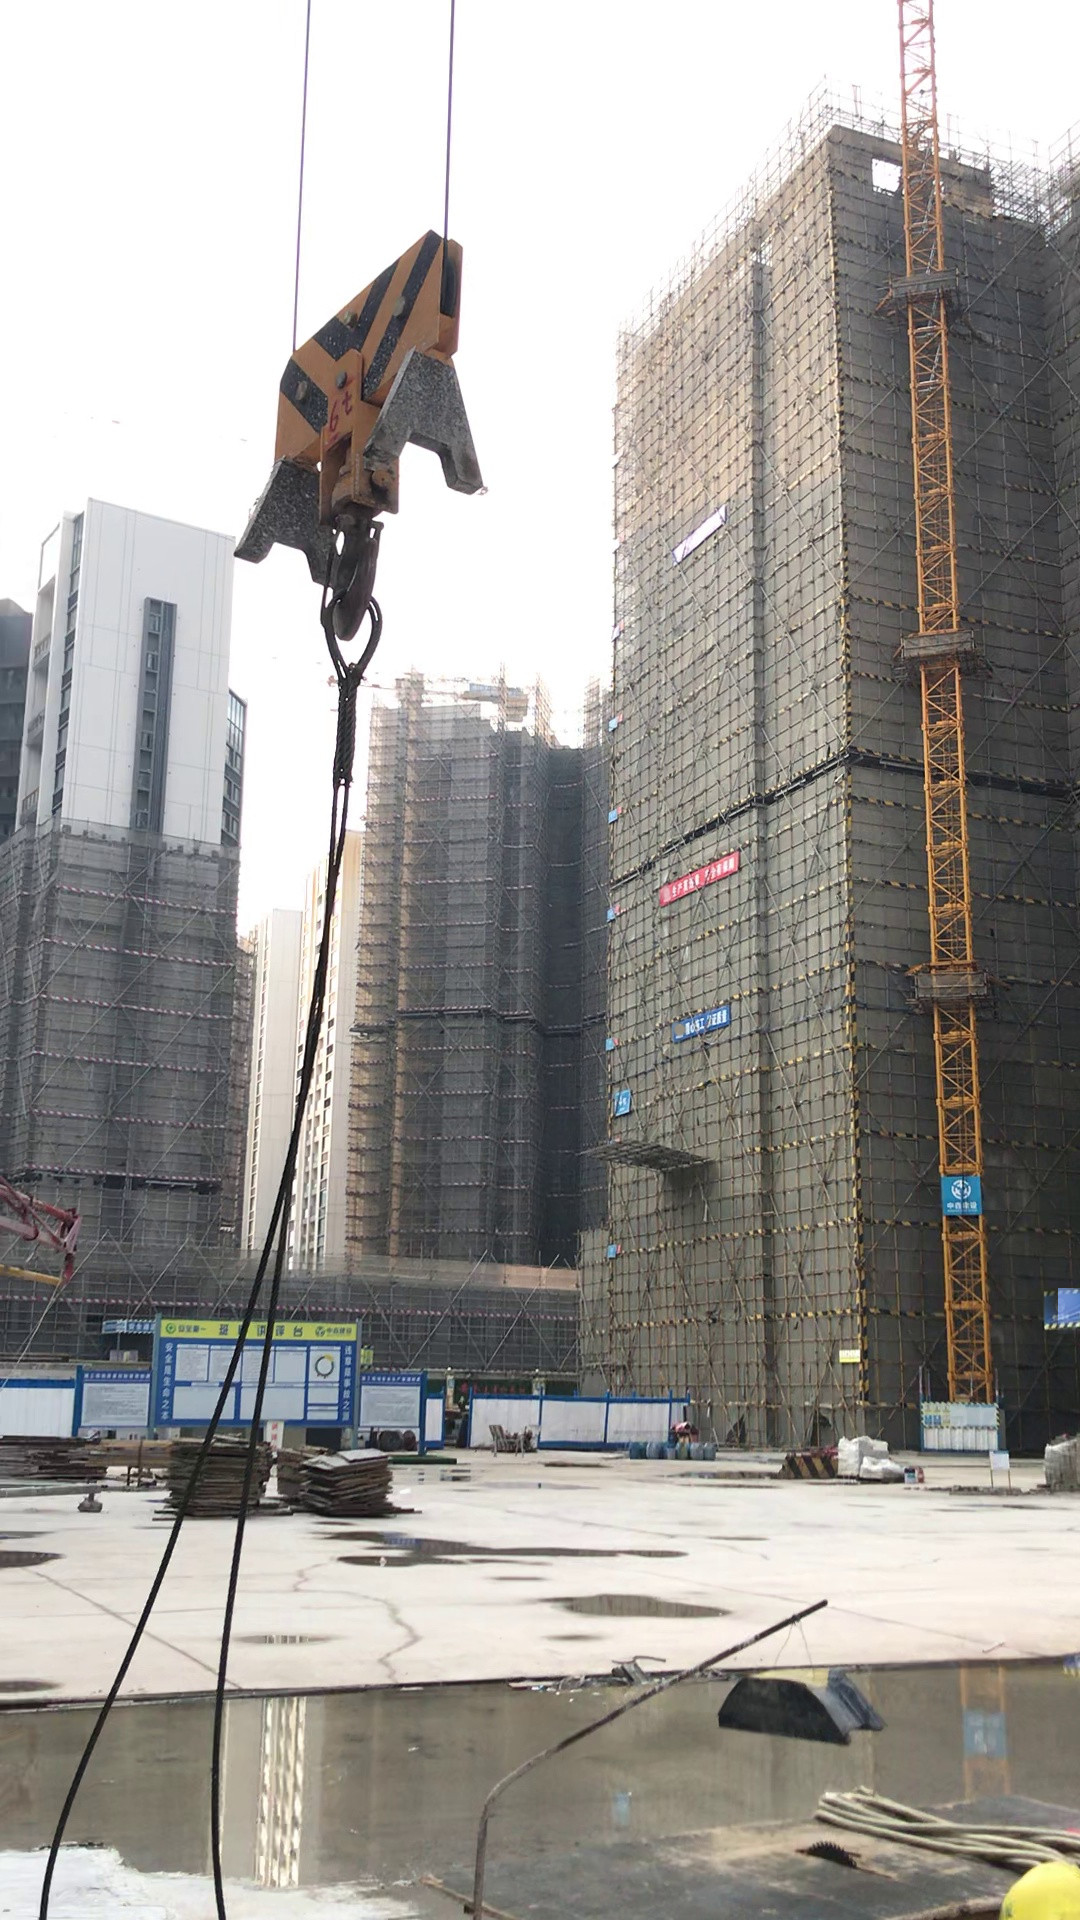board: (166, 1425, 276, 1516), (301, 1448, 394, 1513)
cutter: (426, 1767, 1080, 1916)
helmet: (986, 1842, 1080, 1911)
hook: (247, 245, 484, 640)
slogan: (658, 847, 742, 910), (676, 1007, 729, 1042), (157, 1333, 175, 1427), (336, 1344, 353, 1427)
